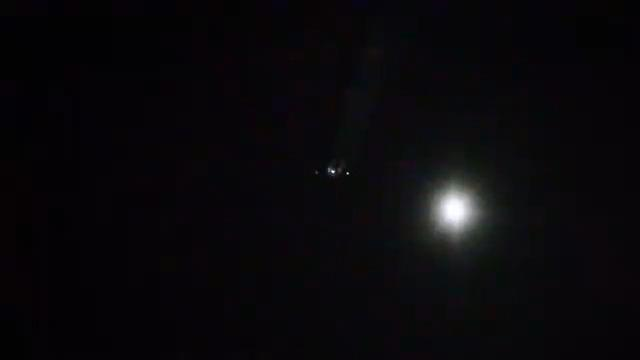Plane: (306, 143, 361, 186)
